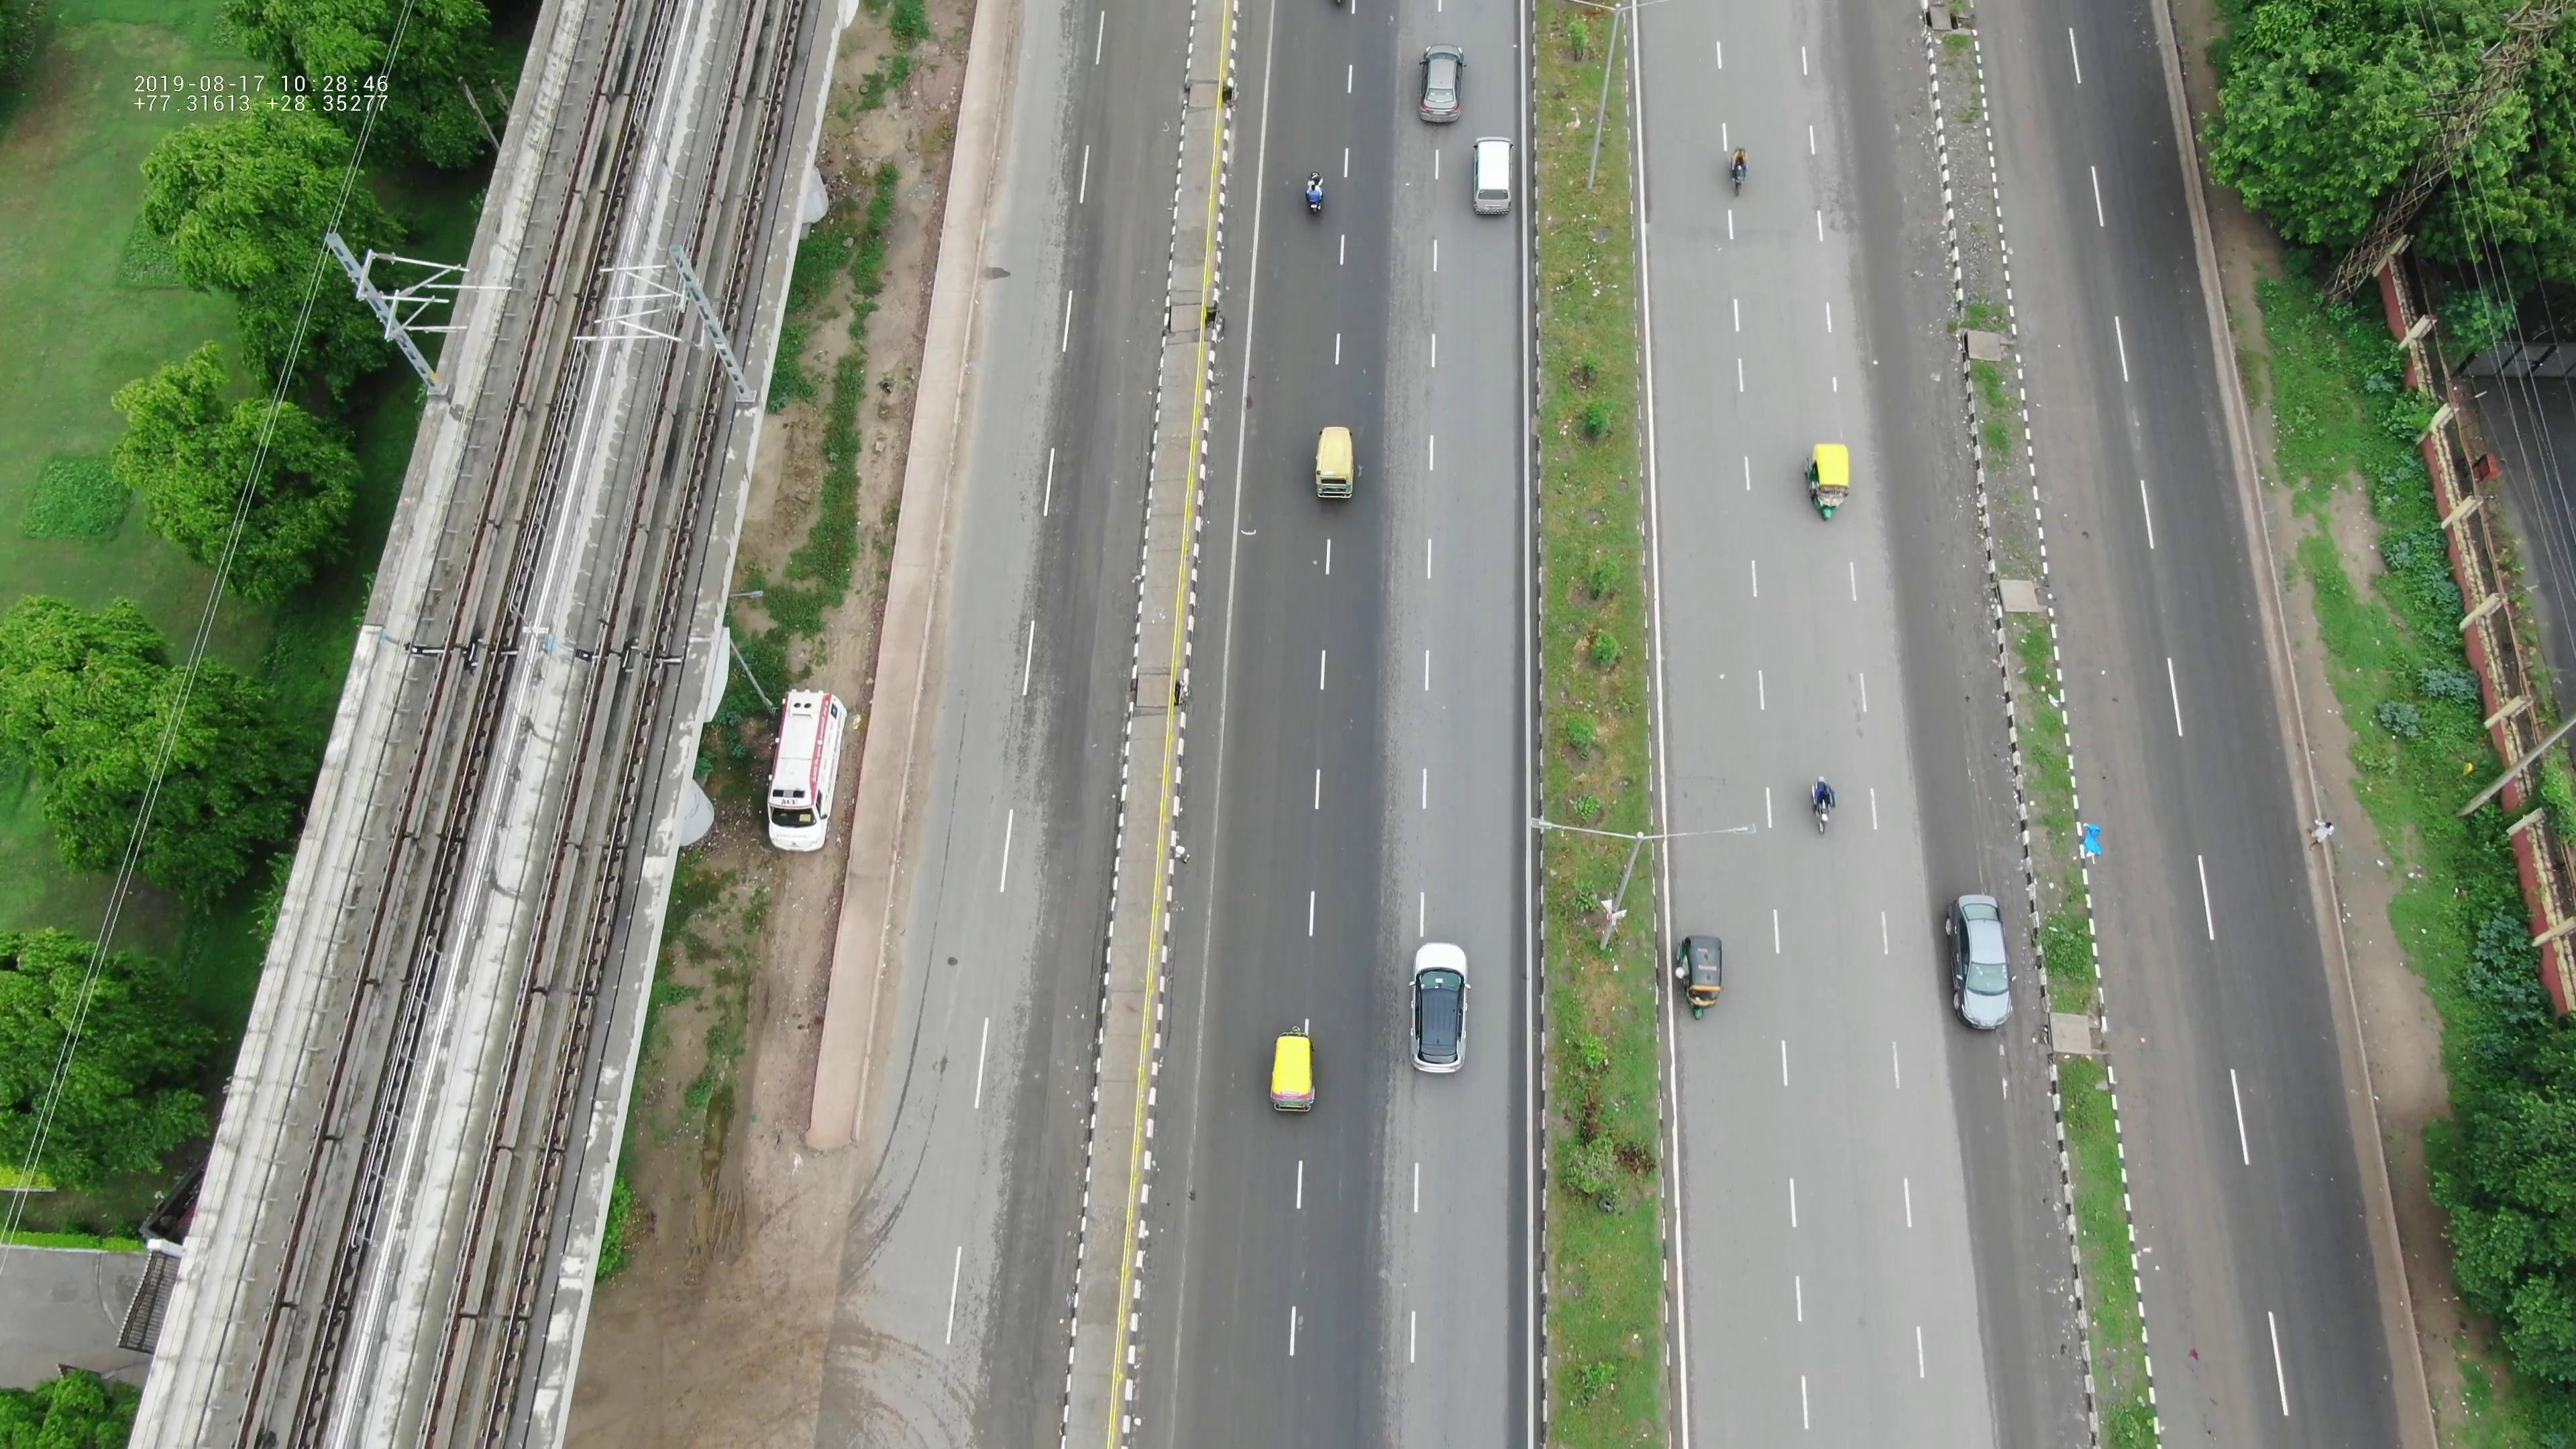Hair_cracks: (1000, 571, 1065, 801)
